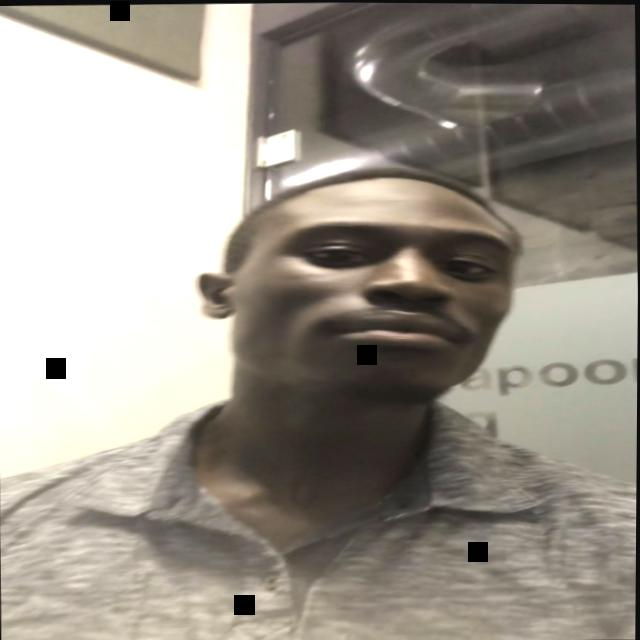NO-Mask: (228, 194, 519, 411)
